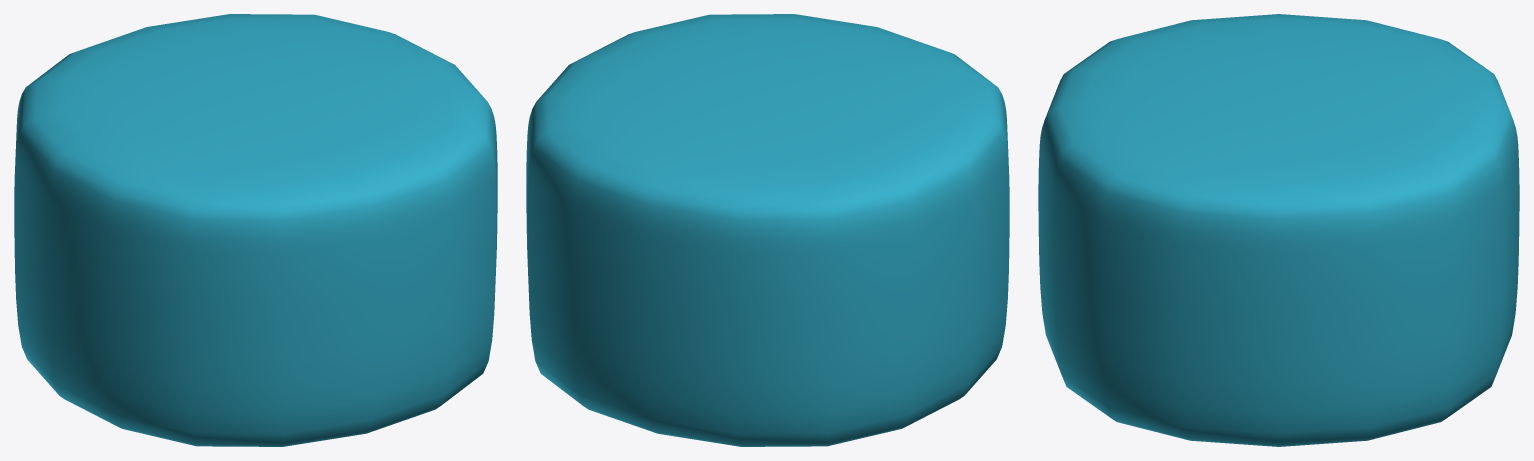
3 renders of one model, left to right at view 1: azimuth 30°, elevation 25°; view 2: azimuth 150°, elevation 25°; view 3: azimuth 270°, elevation 25°, orthographic.
Visible parts, largest first — view 1: Deckel2; view 2: Deckel2; view 3: Deckel2.
Part boxes in pixels (x1=…): Deckel2: x1=14, y1=14, x2=497, y2=446; Deckel2: x1=526, y1=14, x2=1009, y2=446; Deckel2: x1=1038, y1=14, x2=1519, y2=446.
Bounding box in the file's own units: 7.02 × 4.89 × 7.02.
